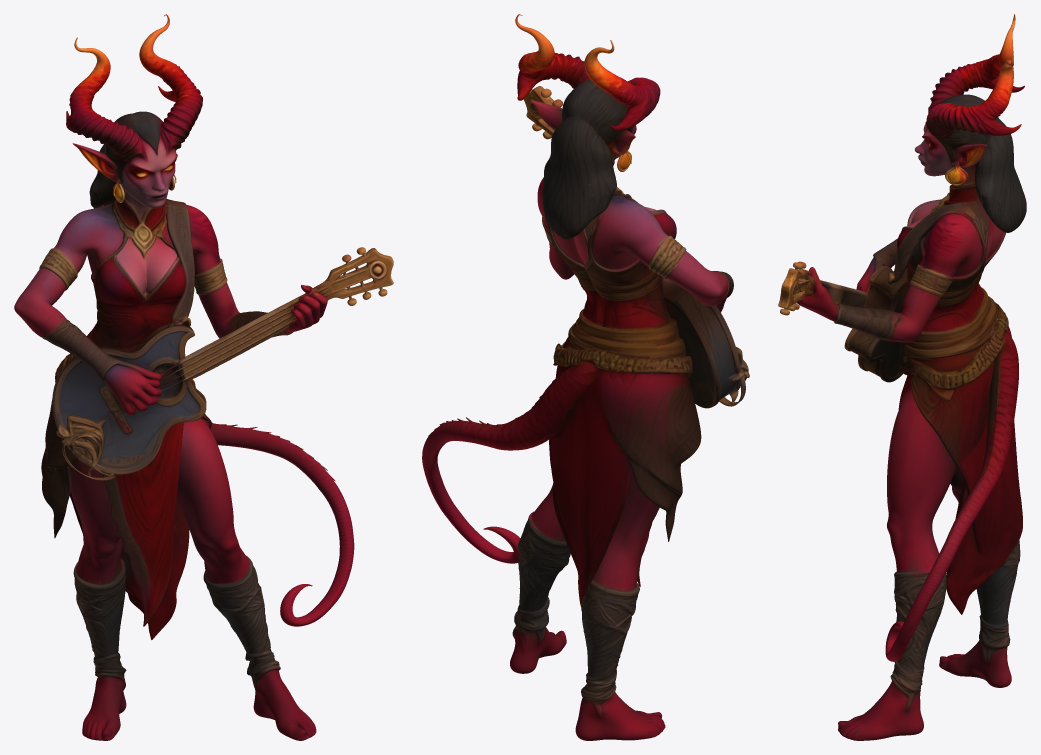
File: tiefling_bard_full_female_01.glb
The picture shows the model from 3 angles, left to right: view 1: azimuth 30°, elevation 25°; view 2: azimuth 150°, elevation 25°; view 3: azimuth 270°, elevation 25°; orthographic projection. The views are drawn at different scales.
Parts seen in each view (by area): view 1: material; view 2: material; view 3: material.
Boxes of the visible parts, x1,y1,x2,y2 form: material: (14,14,393,740); material: (422,14,749,740); material: (778,14,1026,740).
Bounding box in the file's own units: 0.5365 × 1.13 × 0.3856.
Materials: 1 (1 with a texture image).
